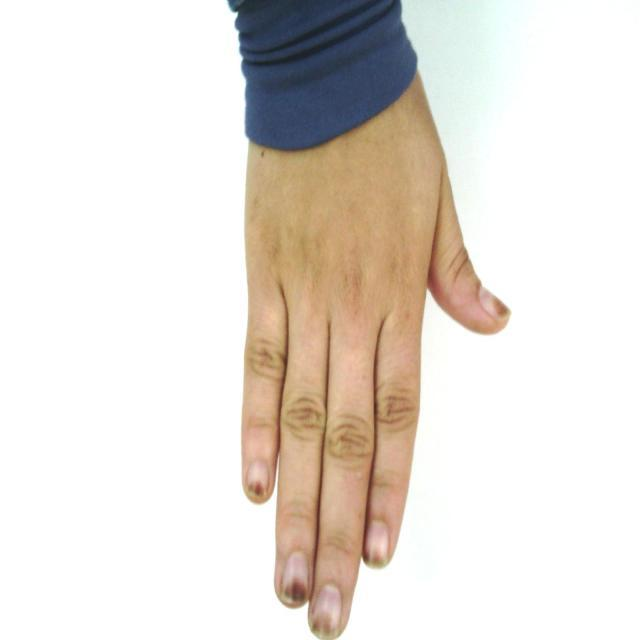Fingernail: (312, 584, 342, 639), (281, 552, 309, 606), (366, 521, 389, 569), (480, 288, 510, 319), (247, 462, 270, 500)
